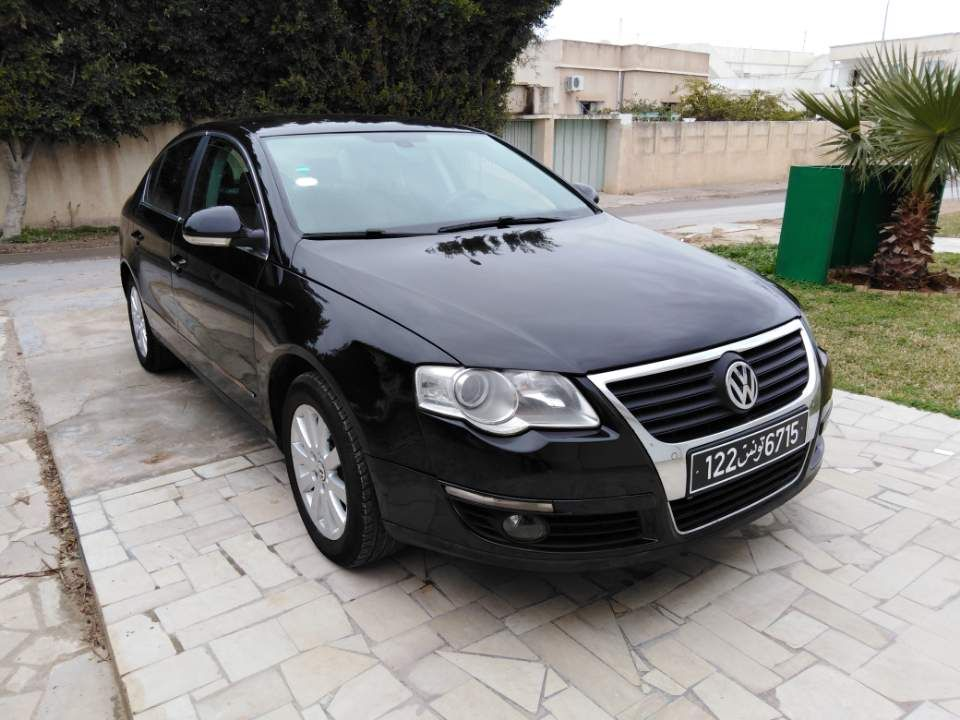LP: (687, 409, 809, 496)
